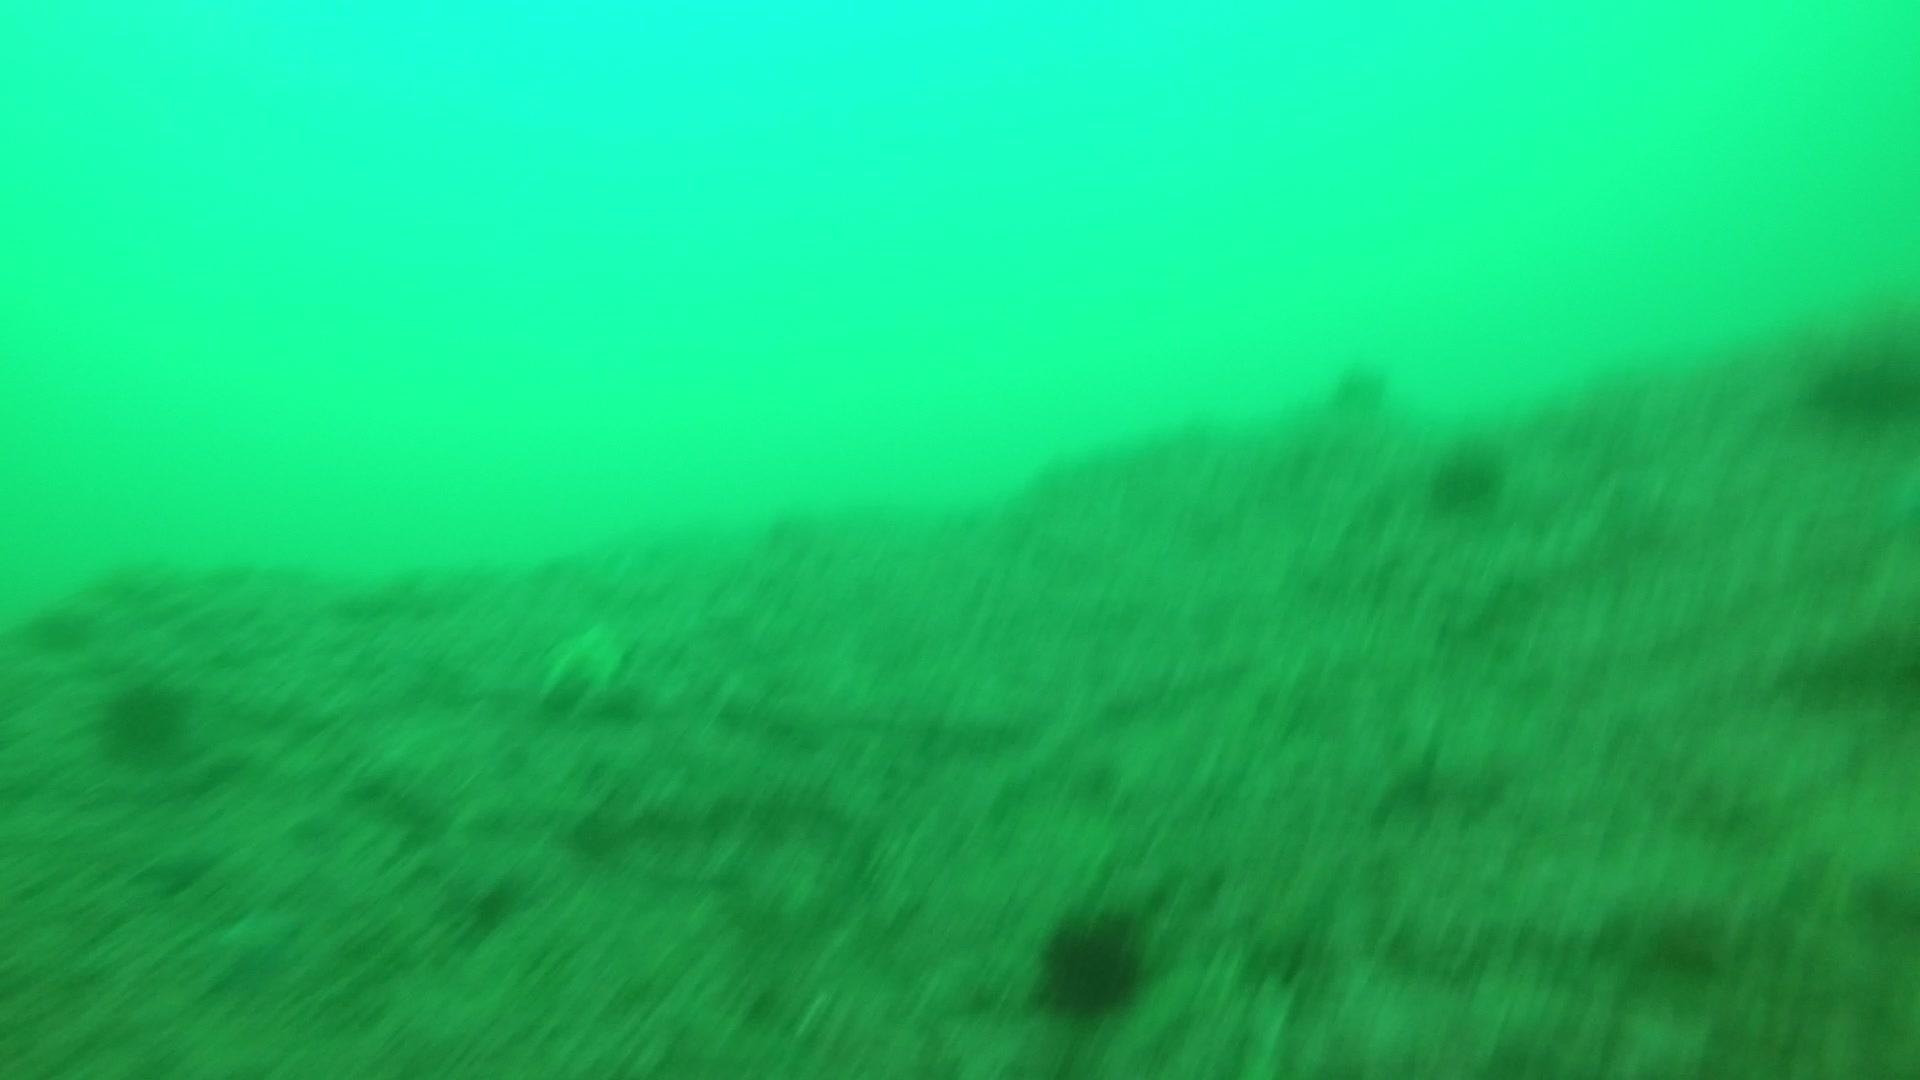echinus: (1030, 903, 1154, 1023), (1800, 320, 1917, 433), (92, 673, 195, 767), (1424, 433, 1509, 516), (22, 595, 98, 657), (1325, 356, 1395, 419)
starfish: (527, 615, 650, 723), (131, 839, 241, 894)
